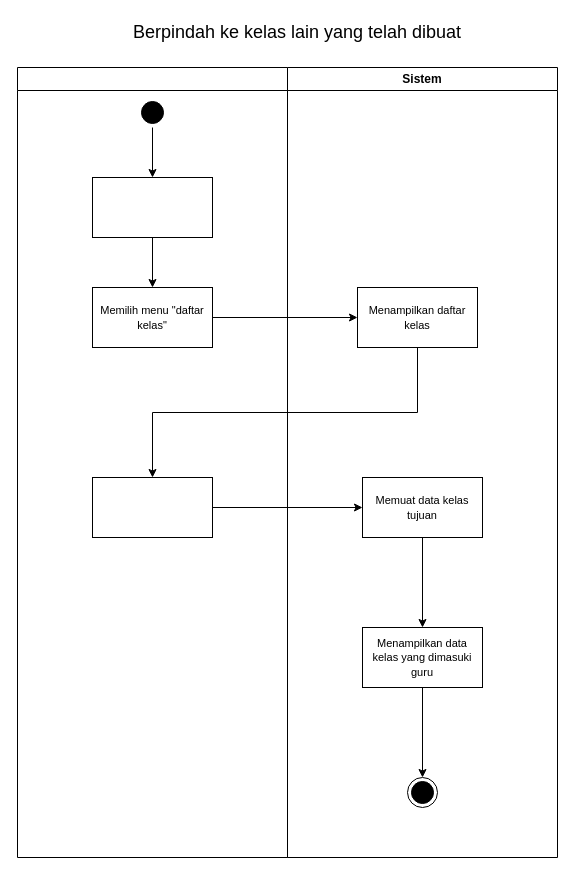
Some shapes in this 575 by 875 pixel diagram are drawn without their labels. The shapes that lost their labels are listed below. From the top down, each one's box as (x1, y1, x2, y2) in pixels, then its label:
(92, 176, 212, 238): Login ke aplikasi
(16, 66, 288, 858): Guru
(92, 476, 212, 538): Memilih kelas tujuan
